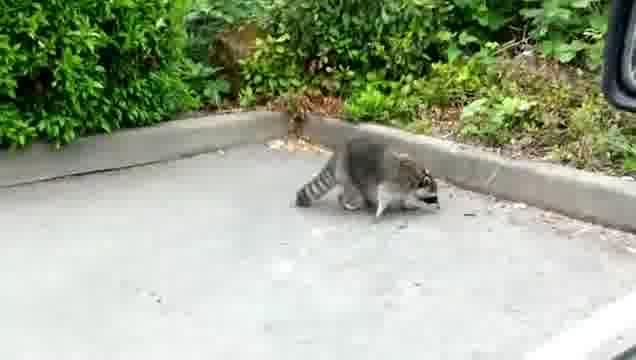raccoon: (295, 137, 443, 220)
